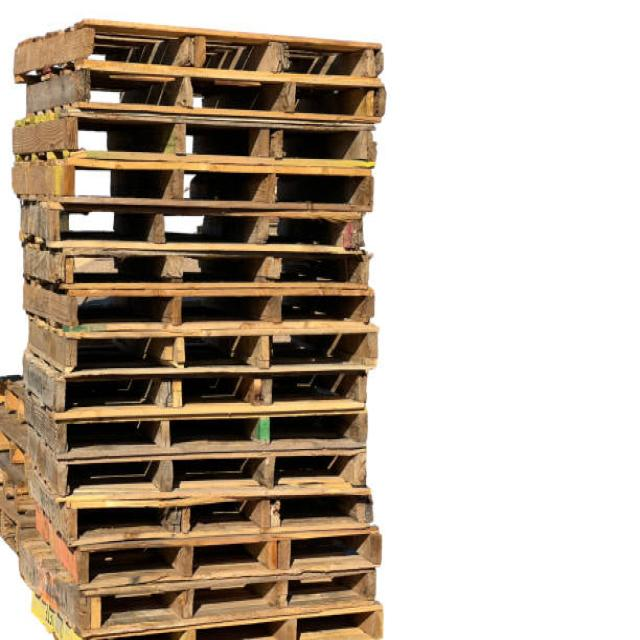Wooden-Pallets: (16, 538, 380, 640), (15, 454, 376, 552), (7, 378, 376, 466), (10, 223, 380, 307), (12, 302, 382, 381), (6, 59, 401, 129), (9, 23, 385, 96), (5, 149, 385, 220), (0, 105, 386, 163)
